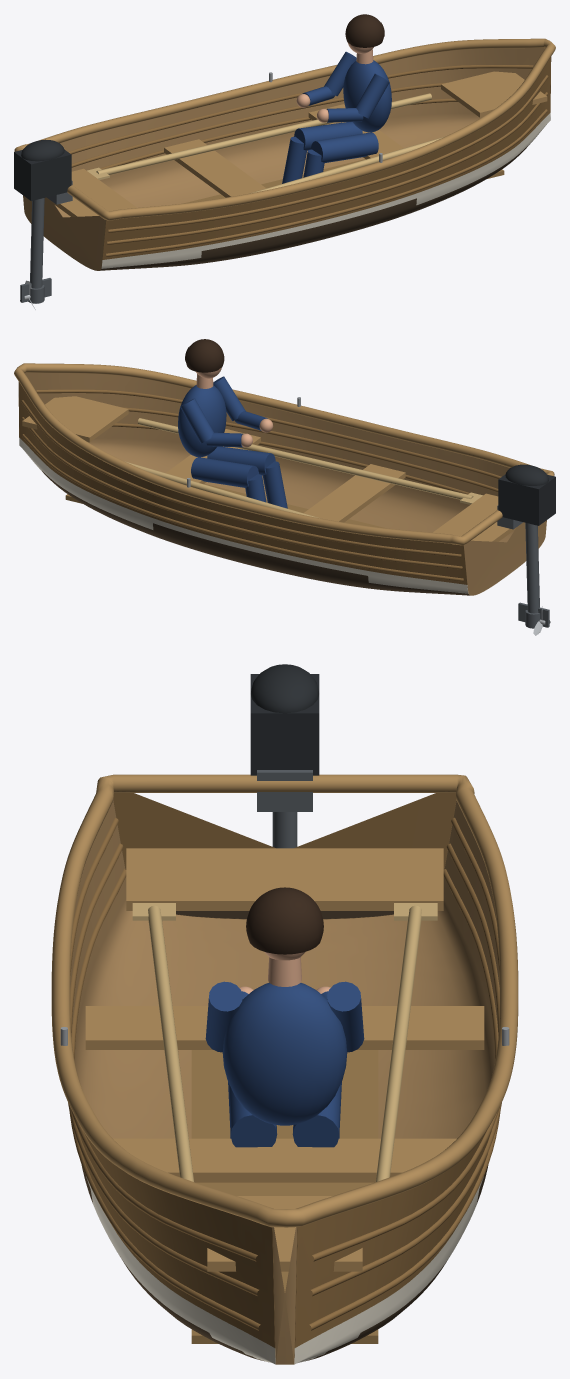
File: dinghy.glb
3 renders of one model, top to bottom at view 1: azimuth 30°, elevation 25°; view 2: azimuth 150°, elevation 25°; view 3: azimuth 270°, elevation 25°, orthographic. The views are drawn at different scales.
Parts seen in each view (by area): view 1: hull_inside, hull, gunwale, plank_laps, rower_suit, oars, outboard_cowl, thwart_aft, bow_seat, outboard_leg, stern_sheet, rower_helmet (+3 smaller); view 2: hull_inside, hull, gunwale, plank_laps, rower_suit, oars, outboard_cowl, thwart_aft, bow_seat, outboard_leg, stern_sheet, rower_helmet (+3 smaller); view 3: hull_inside, hull, gunwale, rower_suit, stern_sheet, plank_laps, thwart_mid, thwart_aft, floorboards, oars, outboard_cowl, outboard_leg (+4 smaller).
Part boxes in pixels (<box>): hull_inside: <box>23,48,544,270</box>; hull: <box>99,56,551,270</box>; gunwale: <box>14,38,555,220</box>; plank_laps: <box>68,65,548,256</box>; rower_suit: <box>282,51,391,183</box>; oars: <box>87,93,444,193</box>; outboard_cowl: <box>14,139,71,200</box>; thwart_aft: <box>164,139,266,197</box>; bow_seat: <box>441,71,547,117</box>; outboard_leg: <box>20,180,72,303</box>; stern_sheet: <box>53,168,136,216</box>; rower_helmet: <box>345,14,383,47</box>; hull_inside: <box>24,372,546,595</box>; hull: <box>18,381,469,595</box>; gunwale: <box>14,363,554,545</box>; plank_laps: <box>21,389,501,581</box>; rower_suit: <box>178,376,287,508</box>; oars: <box>124,418,482,518</box>; outboard_cowl: <box>498,464,555,525</box>; thwart_aft: <box>304,464,405,522</box>; bow_seat: <box>22,396,128,442</box>; outboard_leg: <box>497,505,549,628</box>; stern_sheet: <box>433,493,516,541</box>; rower_helmet: <box>186,339,224,372</box>; hull_inside: <box>70,799,499,1364</box>; hull: <box>78,793,491,1364</box>; gunwale: <box>51,774,518,1227</box>; rower_suit: <box>205,981,364,1147</box>; stern_sheet: <box>126,848,443,910</box>; plank_laps: <box>68,817,501,1330</box>; thwart_mid: <box>113,1138,456,1182</box>; thwart_aft: <box>85,1006,484,1049</box>; floorboards: <box>191,1050,378,1343</box>; oars: <box>132,903,437,1181</box>; outboard_cowl: <box>250,664,319,775</box>; outboard_leg: <box>257,770,312,848</box>.
Bounding box in the file's own units: 3.94 × 1.47 × 1.5.
